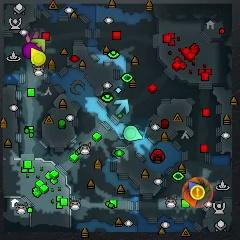Other: (191, 185, 205, 200)
p1: (188, 180, 198, 189)
p2: (124, 125, 142, 141)
p3: (23, 42, 43, 59)
p4: (31, 47, 46, 66)
p5: (184, 188, 198, 208)
x1: (25, 31, 39, 42)
x2: (30, 38, 45, 49)
x3: (114, 99, 130, 114)
x4: (199, 179, 210, 194)
